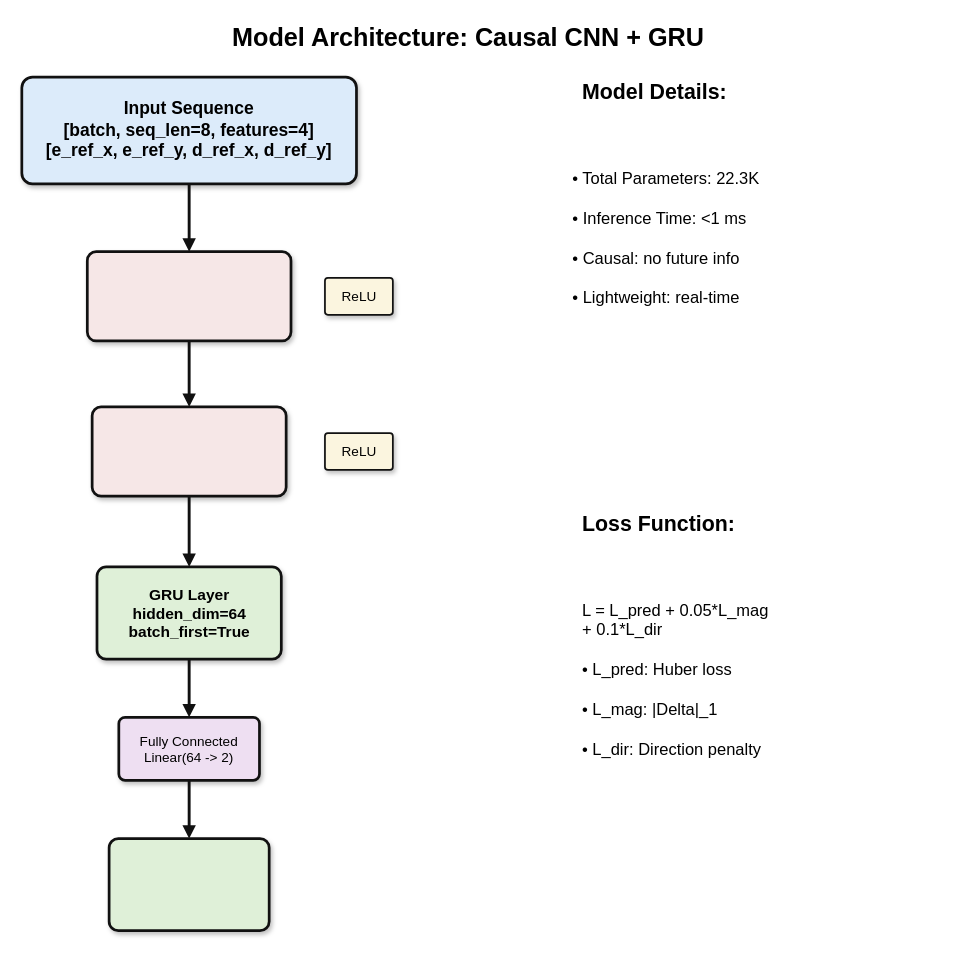
Image size: 976x955. Some labels were removed from this diagram. The shapes that lost their labels are listed below. From the top down, each one's centre as x and y in pixels, then its label:
[190,297]: Causal Conv1D channels=32, kernel=3 dilation=1
[189,452]: Causal Conv1D channels=32, kernel=3 dilation=2
[189,885]: Output [batch, 2] [Delta_x, Delta_y]
